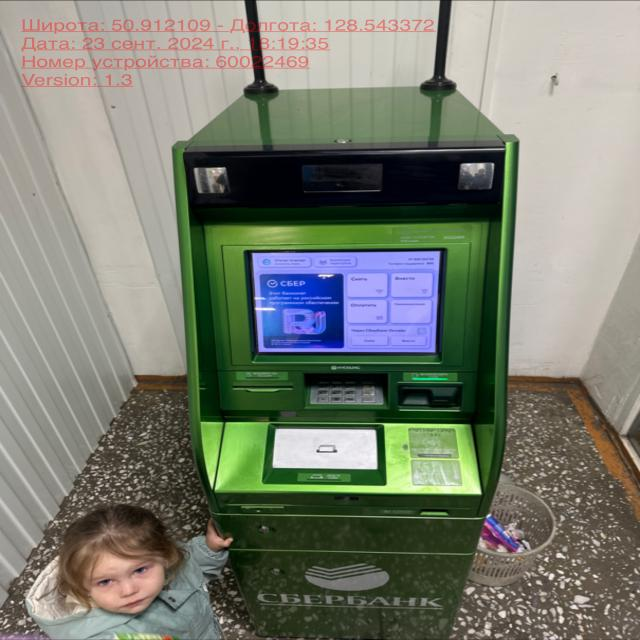bank: (169, 79, 523, 640)
